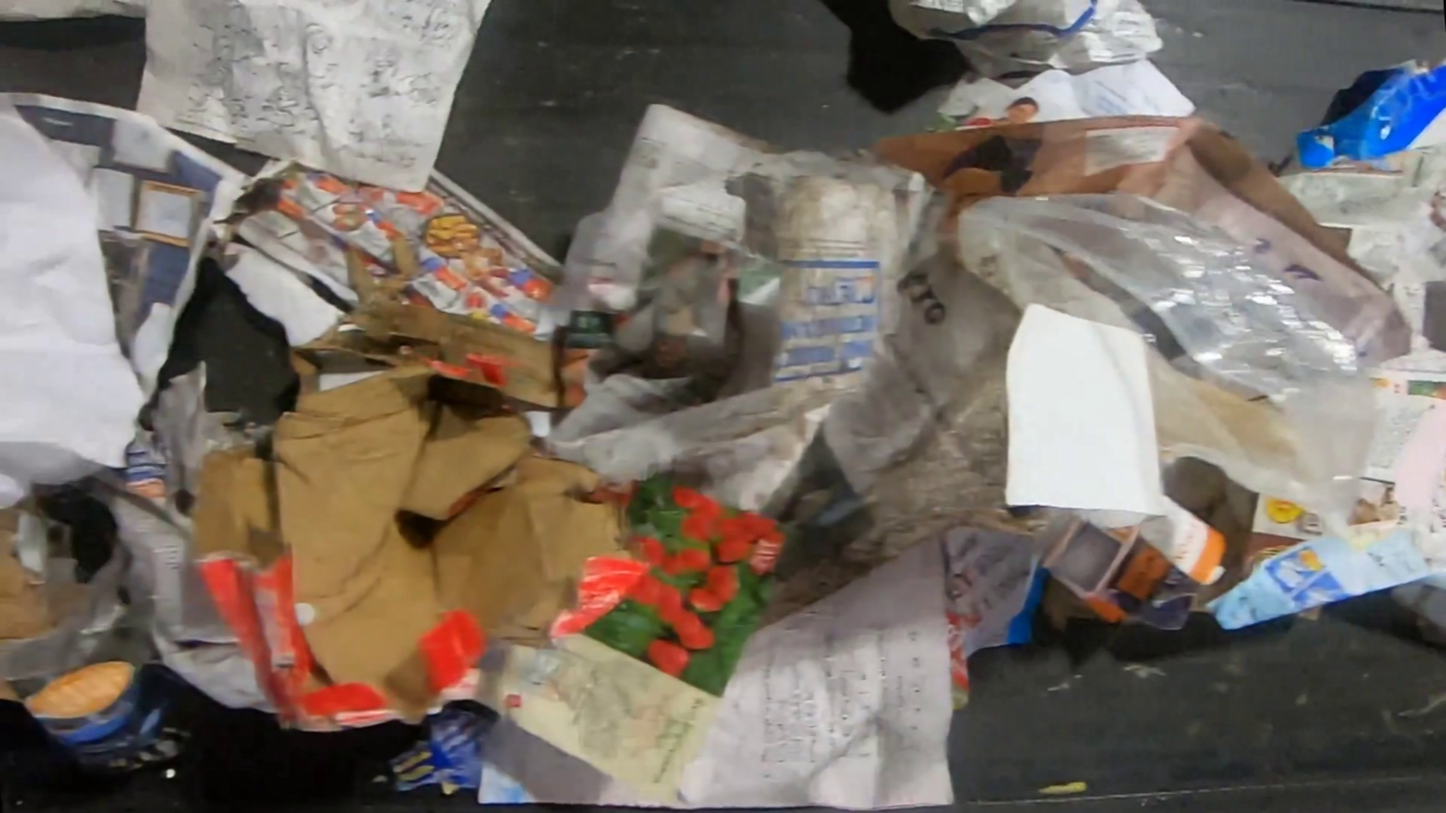cardboard: (188, 232, 656, 735), (1034, 492, 1231, 635), (17, 659, 209, 784), (1275, 55, 1446, 176), (384, 703, 493, 797)
plastic: (949, 189, 1381, 549), (0, 523, 180, 698), (139, 359, 269, 502)
